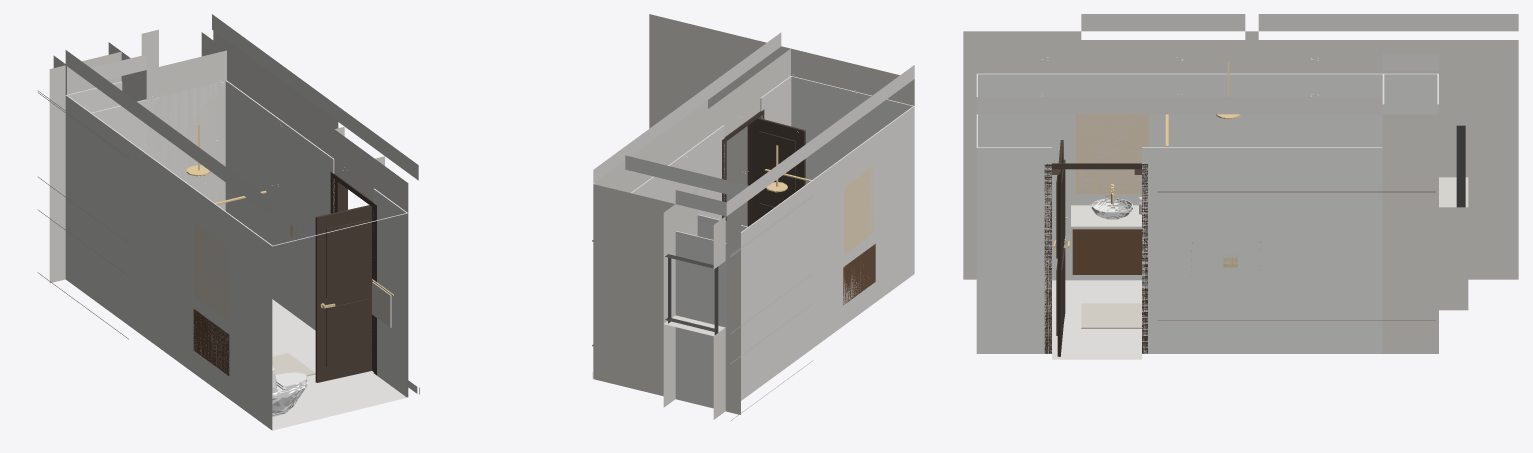
The model's file is BATH1.glb.
3 views of the same model, side by side, from view 1: azimuth 30°, elevation 25°; view 2: azimuth 150°, elevation 25°; view 3: azimuth 270°, elevation 25° (orthographic). The views are drawn at different scales.
Visible parts, largest first — view 1: WEB_BATH1; view 2: WEB_BATH1; view 3: WEB_BATH1.
Part boxes in pixels (x1=…): WEB_BATH1: x1=37, y1=14, x2=419, y2=430; WEB_BATH1: x1=592, y1=14, x2=914, y2=420; WEB_BATH1: x1=963, y1=14, x2=1518, y2=359.
Bounding box in the file's own units: 4.2 × 3 × 5.88.
